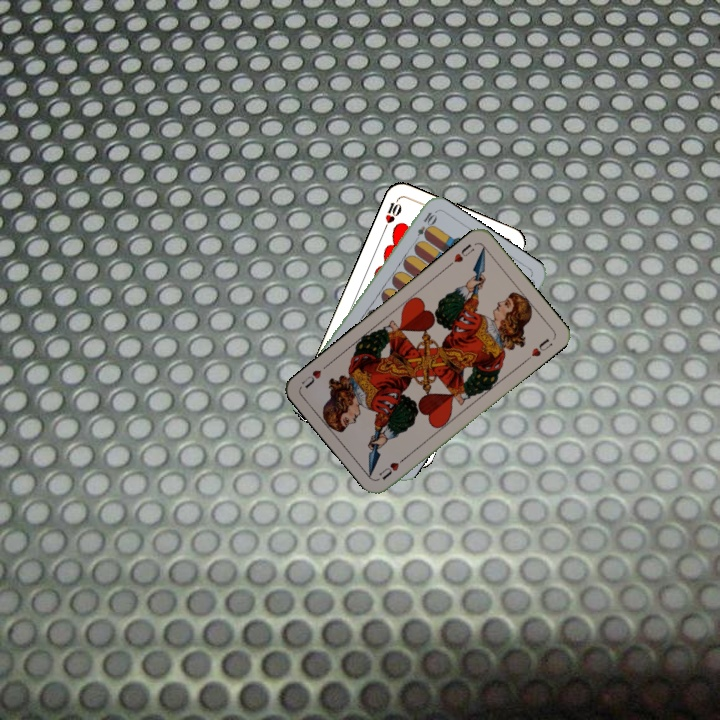E10: (410, 208, 438, 246)
H10: (380, 194, 404, 233)
HU: (375, 452, 409, 483), (444, 239, 477, 269)
